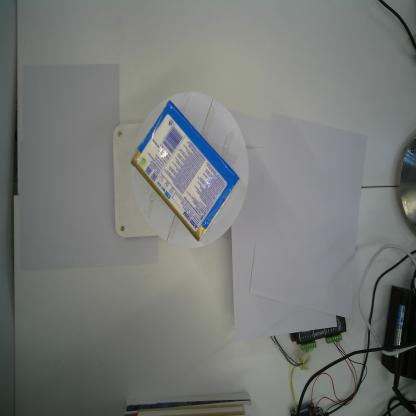Tissue: (130, 99, 241, 244)
